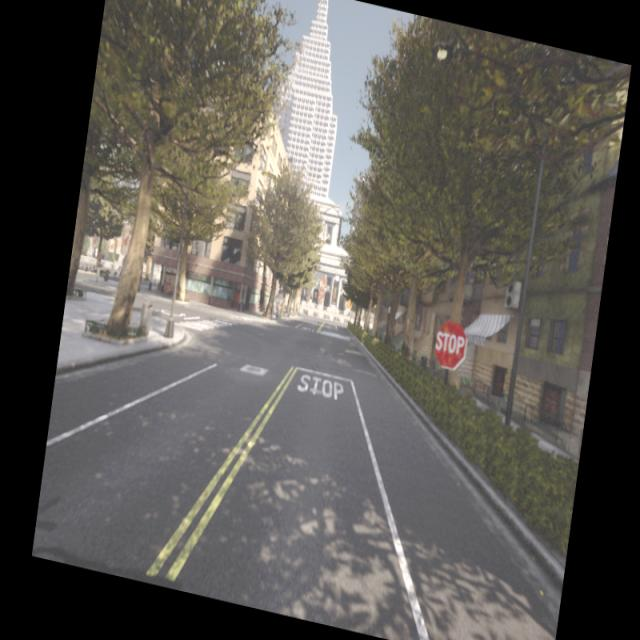stop sign: (432, 318, 468, 372)
